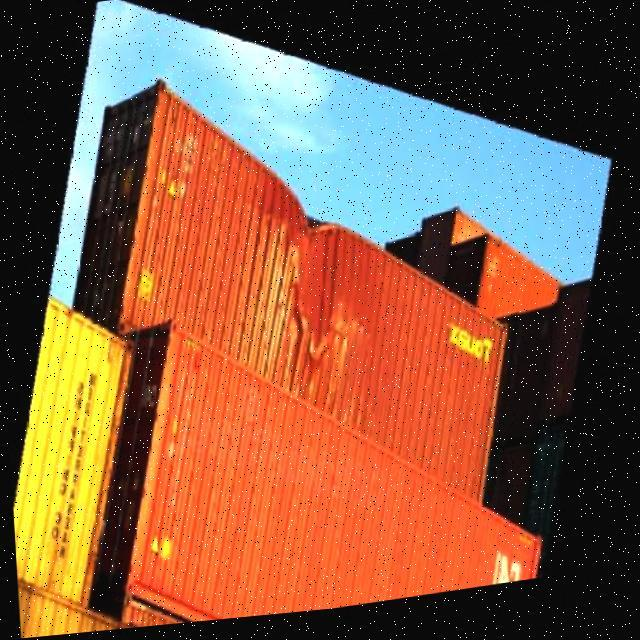dent: (262, 199, 361, 375)
